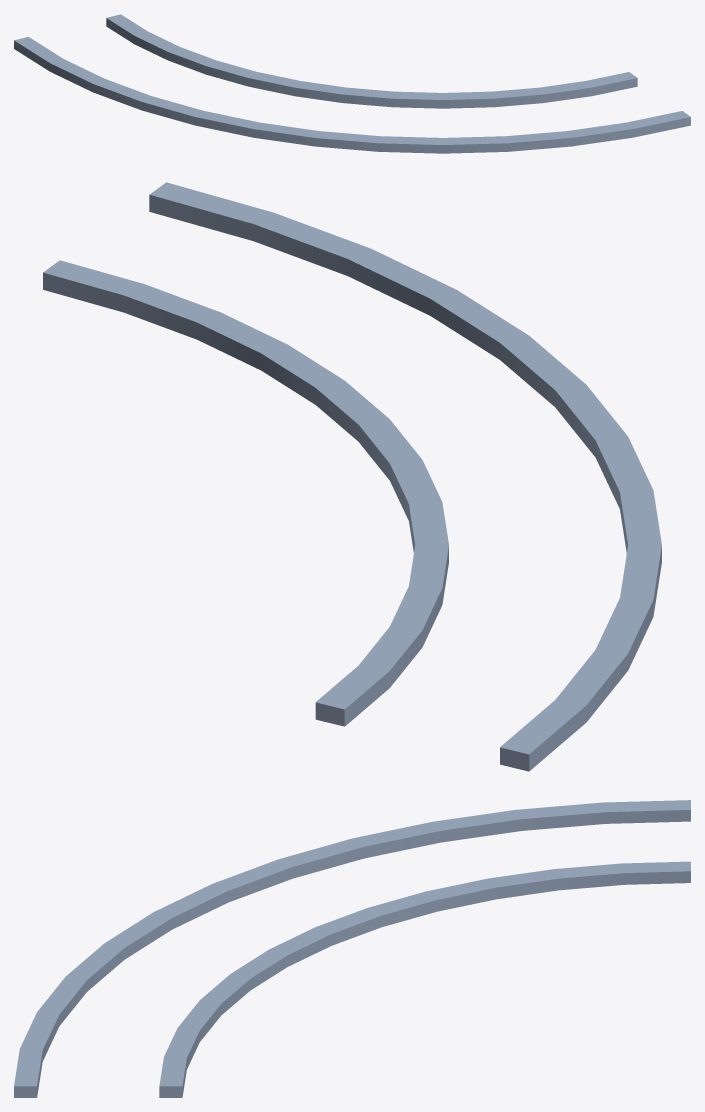
File: trackSimpleCornerLarge.dae
3 renders of one model, top to bottom at view 1: azimuth 30°, elevation 25°; view 2: azimuth 150°, elevation 25°; view 3: azimuth 270°, elevation 25°, orthographic. The views are drawn at different scales.
Visible parts, largest first — view 1: trackSimpleCornerLarge; view 2: trackSimpleCornerLarge; view 3: trackSimpleCornerLarge.
Part boxes in pixels (x1,y1,x2,y2): trackSimpleCornerLarge: (14, 14, 690, 153); trackSimpleCornerLarge: (43, 182, 661, 771); trackSimpleCornerLarge: (14, 800, 690, 1097).
Size of the model in its own units: 0.5277 by 0.0101 by 0.5277.
